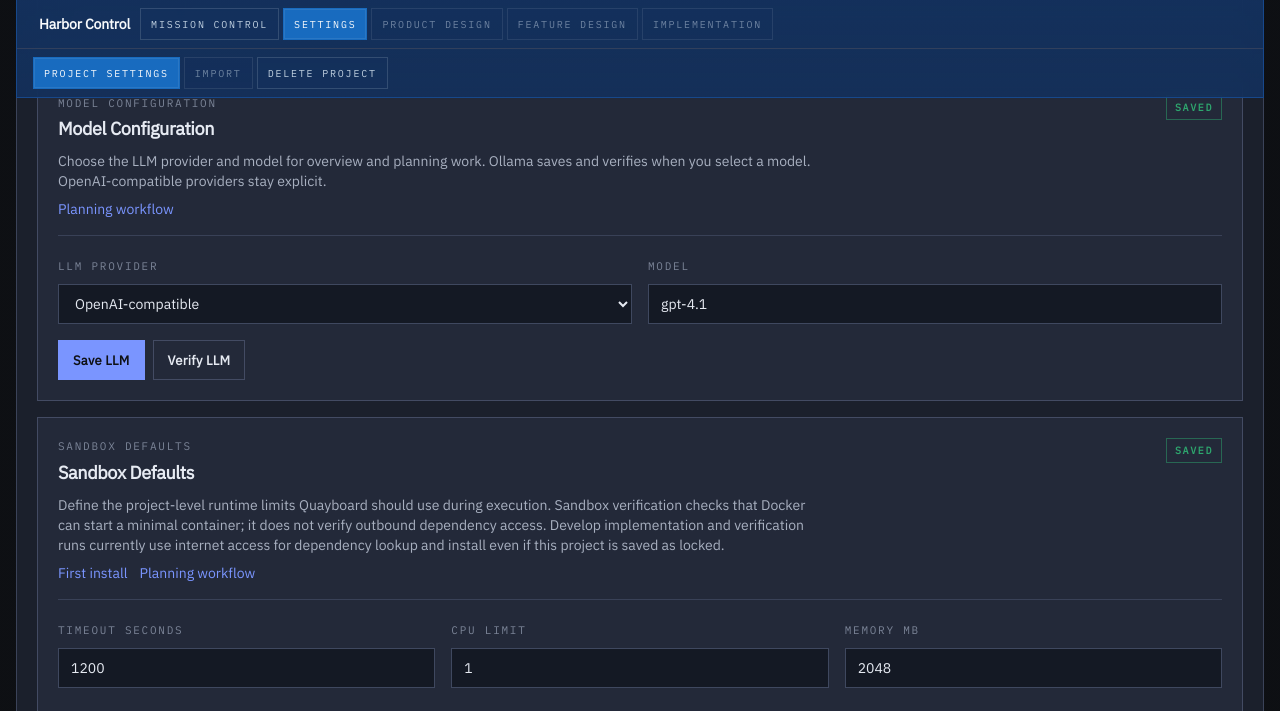
it: project setup page › keeps explicit LLM verification for the openai-compatible flow
(page scrolled)
Click the button "Verify LLM" at {"x": 199, "y": 360}, box [153, 340, 245, 380]
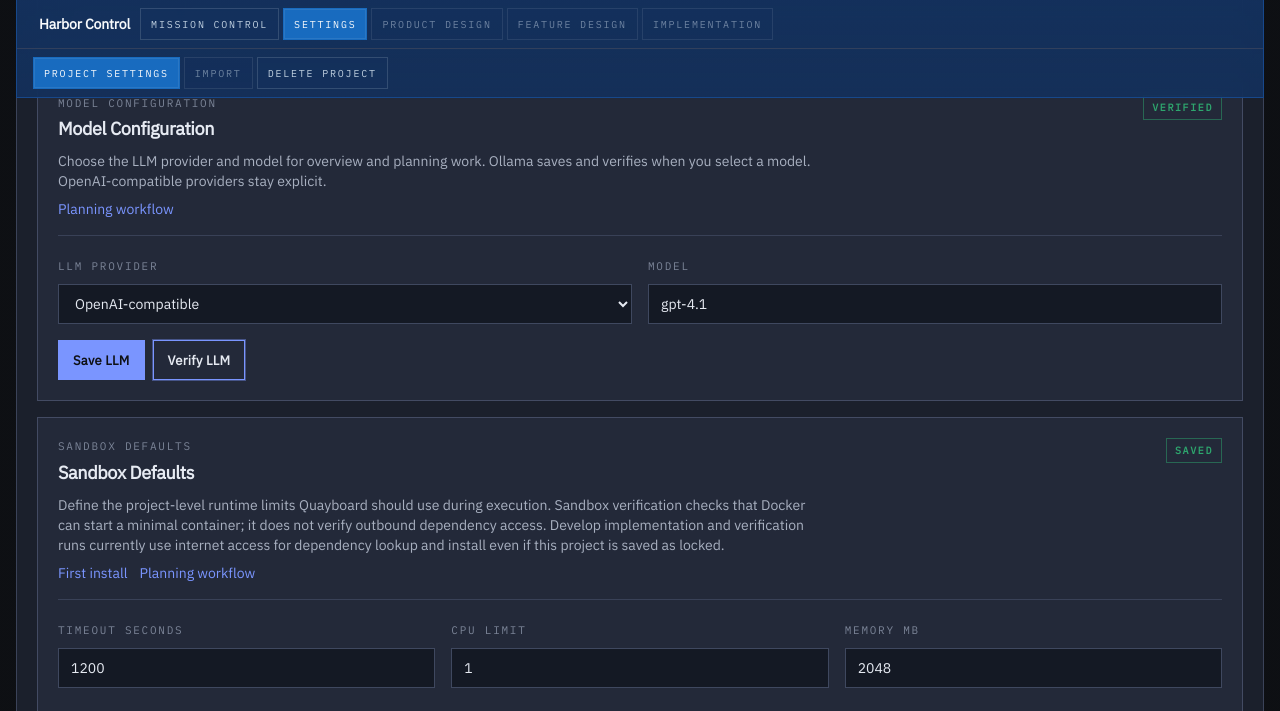
expect the text "verified" is shown: met, box [1143, 95, 1222, 120]
